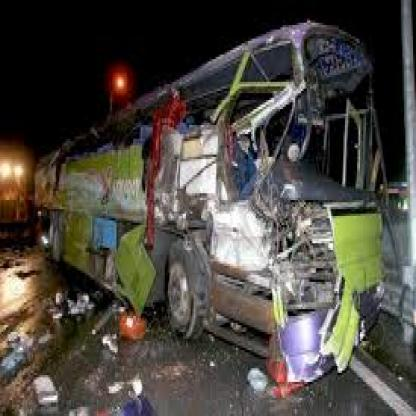accident: (25, 25, 400, 387)
